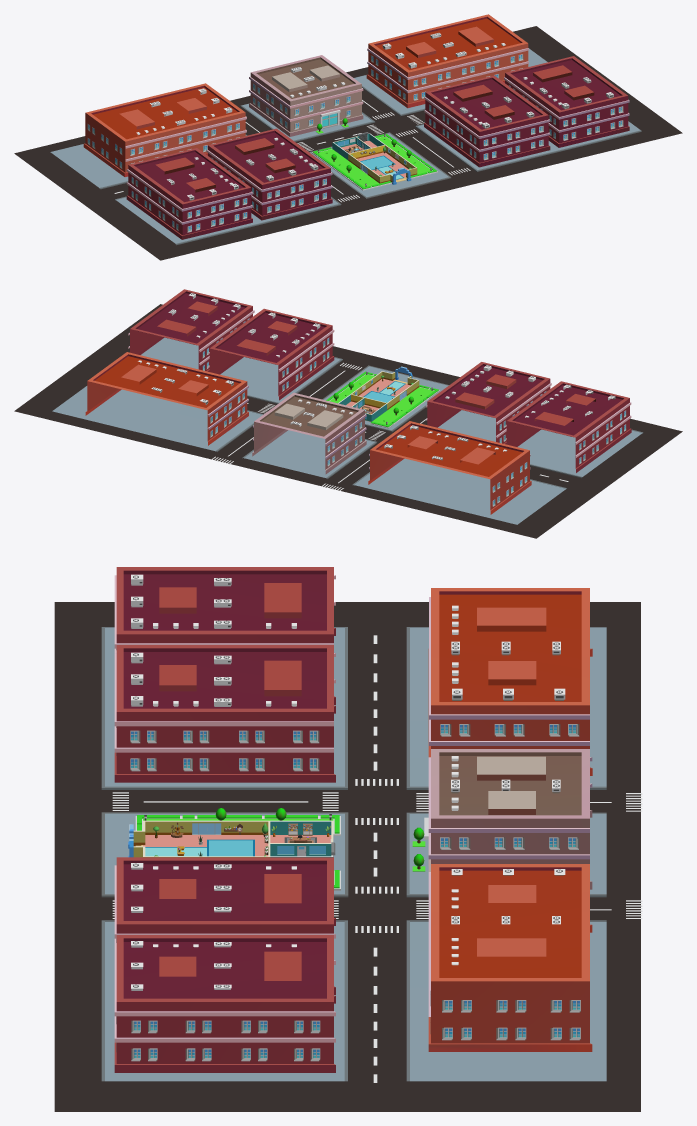
Rendered from Thanh pho.fbx.
3 views of the same model, one above another, from view 1: azimuth 30°, elevation 25°; view 2: azimuth 150°, elevation 25°; view 3: azimuth 270°, elevation 25° (orthographic). The views are drawn at different scales.
Visible parts, largest first — view 1: Thanh pho, Khu vuc chinh; view 2: Thanh pho, Khu vuc chinh; view 3: Thanh pho, Khu vuc chinh.
Boxes of the visible parts, left/top/right/bottom form: Thanh pho: left=14, top=14, right=682, bottom=260; Khu vuc chinh: left=309, top=132, right=451, bottom=198; Thanh pho: left=14, top=289, right=682, bottom=538; Khu vuc chinh: left=322, top=365, right=449, bottom=431; Thanh pho: left=54, top=567, right=642, bottom=1111; Khu vuc chinh: left=101, top=808, right=348, bottom=897.
Size of the model in its own units: 69345 by 4724 by 33762.
